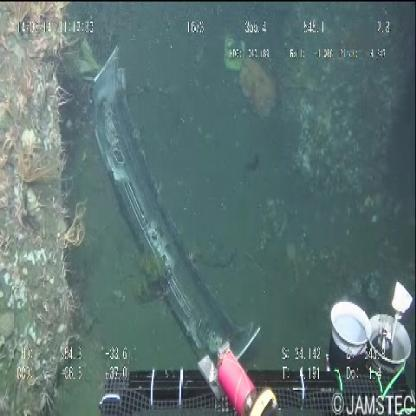Rov: (86, 274, 416, 411)
Rác: (86, 54, 266, 356)
